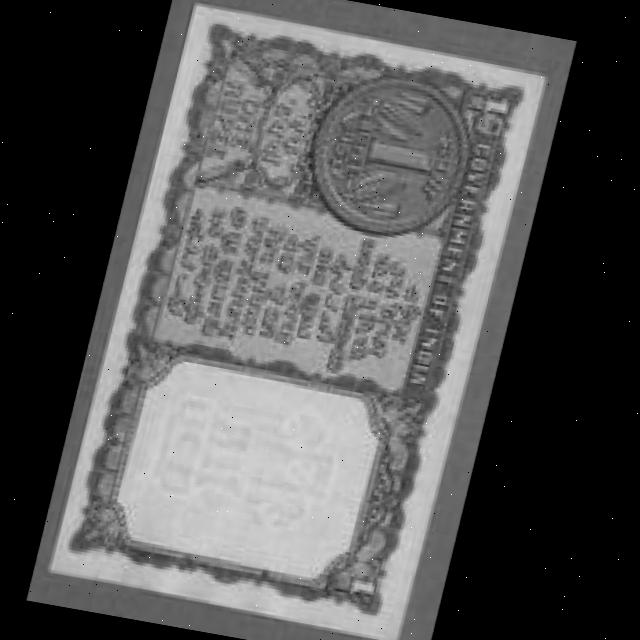banknote: (31, 0, 581, 640)
